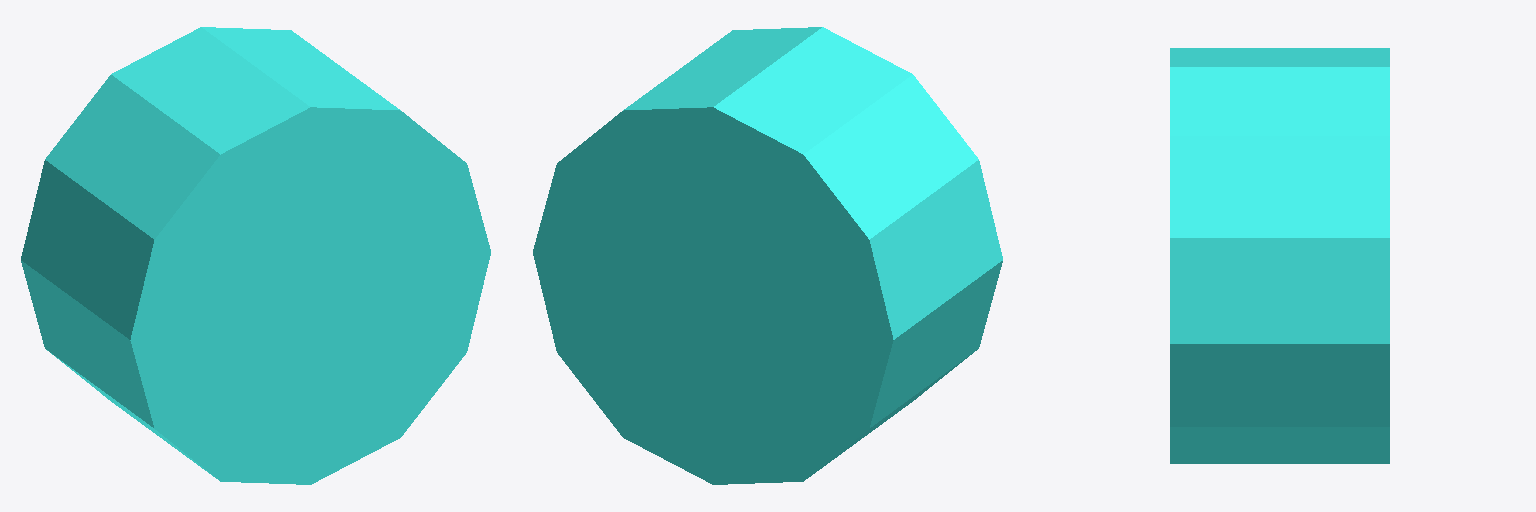
3 renders of one model, left to right at view 1: azimuth 30°, elevation 25°; view 2: azimuth 150°, elevation 25°; view 3: azimuth 270°, elevation 25°, orthographic.
Visible parts, largest first — view 1: Cylinder; view 2: Cylinder; view 3: Cylinder.
Boxes of the visible parts, x1,y1,x2,y2 form: Cylinder: [21, 27, 490, 484]; Cylinder: [533, 27, 1002, 484]; Cylinder: [1170, 48, 1389, 463].
Size of the model in its own units: 1.9 by 1.9 by 1.
Materials: 1 (1 with a texture image).